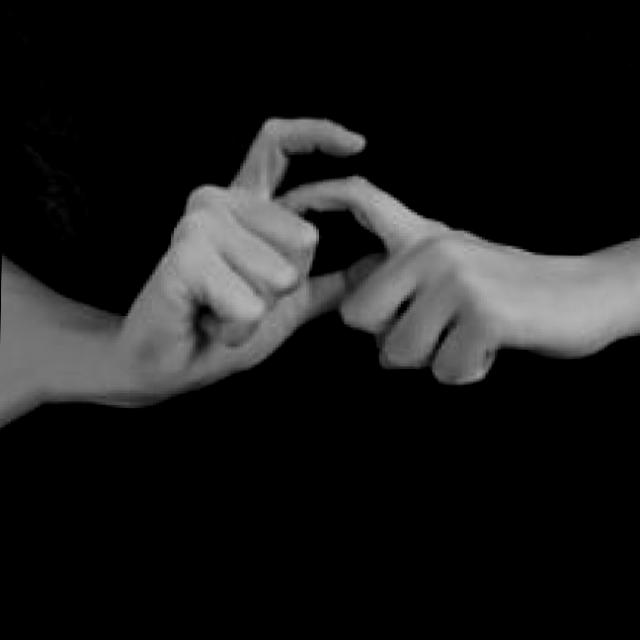G: (84, 108, 572, 416)
